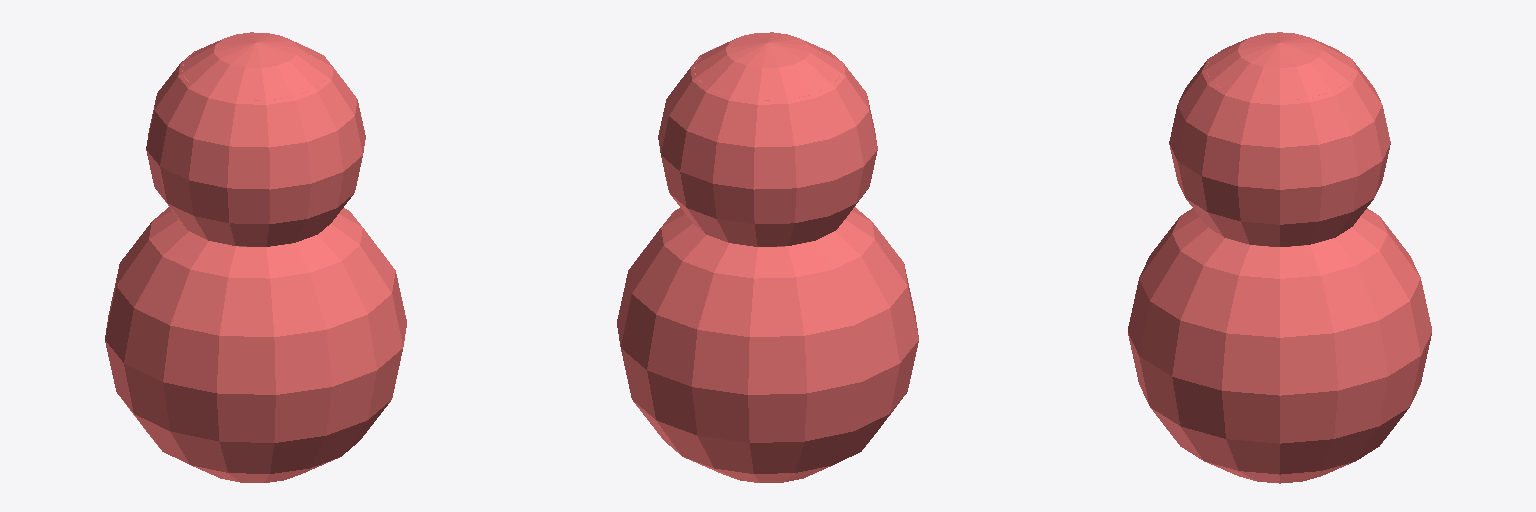
The picture shows the model from 3 angles: view 1: azimuth 30°, elevation 25°; view 2: azimuth 150°, elevation 25°; view 3: azimuth 270°, elevation 25°; orthographic projection.
Parts seen in each view (by area): view 1: hp; view 2: hp; view 3: hp.
Part boxes in pixels (left/top/right/bottom): hp: left=105, top=32, right=406, bottom=482; hp: left=617, top=32, right=918, bottom=482; hp: left=1128, top=32, right=1431, bottom=483.
Size of the model in its own units: 4.71 by 7.27 by 4.71.